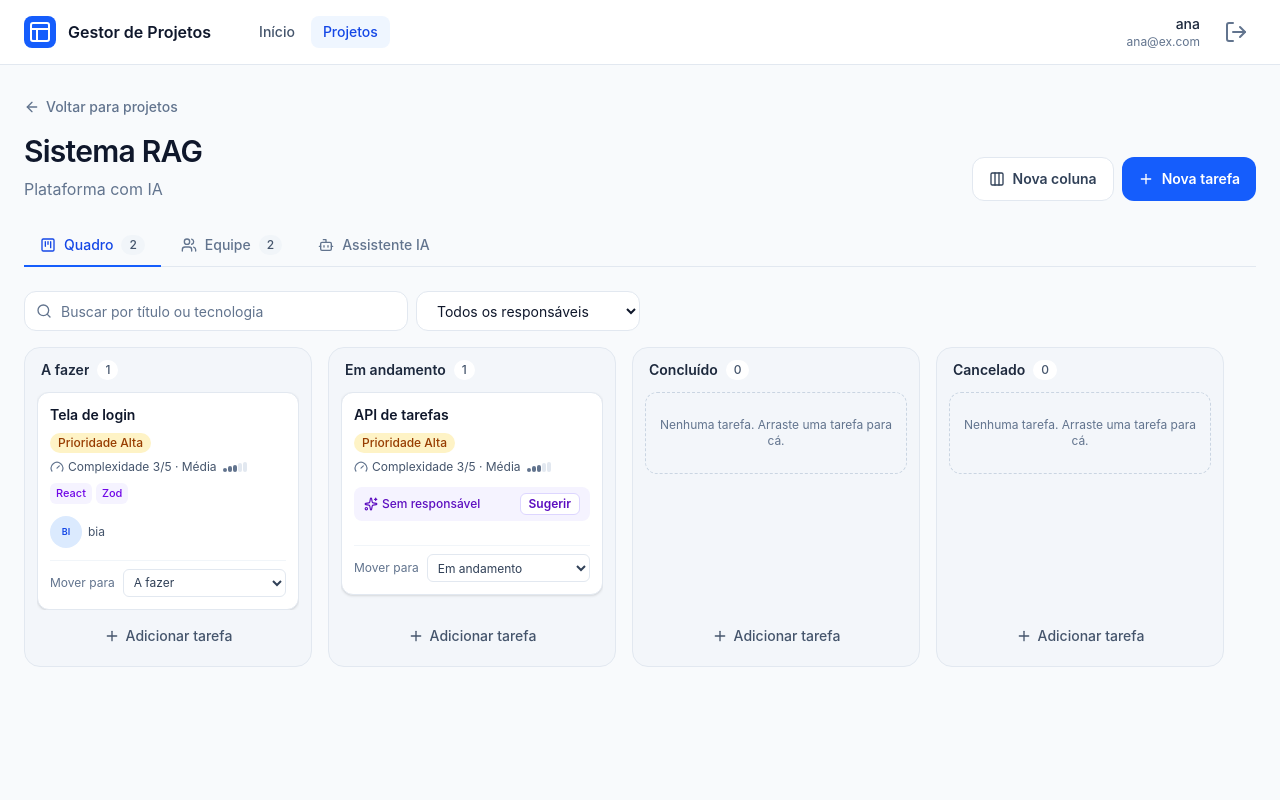
ProjectBoardPage — quadro › devolve a tarefa à coluna original e informa o erro se a API falhar
The width and height of the screenshot is (1280, 800).
Expected: the element "Tela de login" is shown, [37, 392, 299, 610]
Select "Concluído" in the dropdown named "Mover \"Tela de login\" para": point(204, 582) [123, 568, 286, 596]
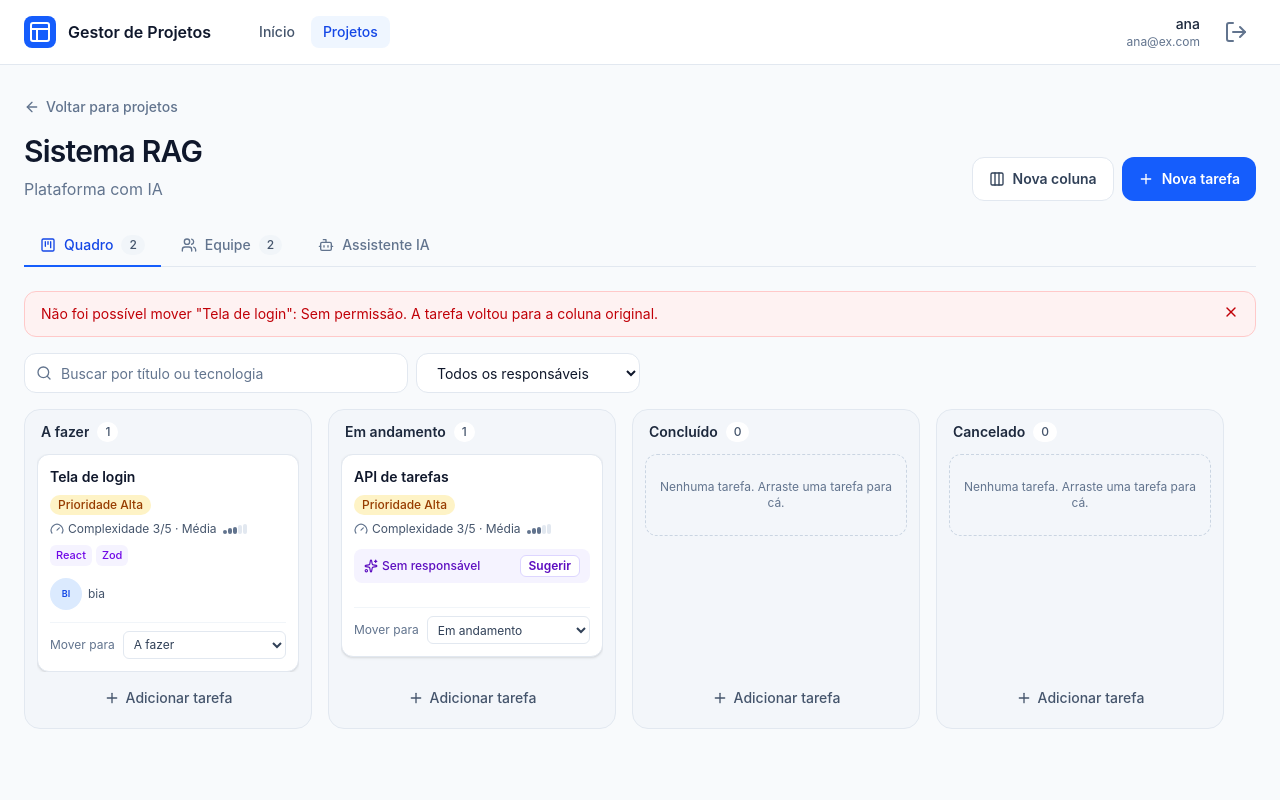
Expected: the element "Tela de login" is shown, [37, 454, 299, 672]
Expected: the message shows "Não foi possível mover \"Tela de login\": Sem permissão.", [41, 305, 658, 322]
